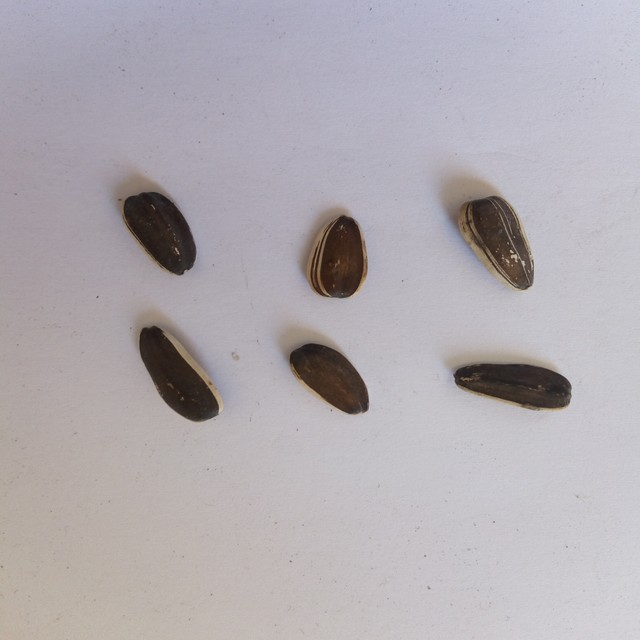girasol: (134, 315, 227, 432), (450, 191, 536, 294), (447, 358, 576, 420), (118, 187, 202, 280), (302, 209, 375, 311), (285, 338, 373, 421)
